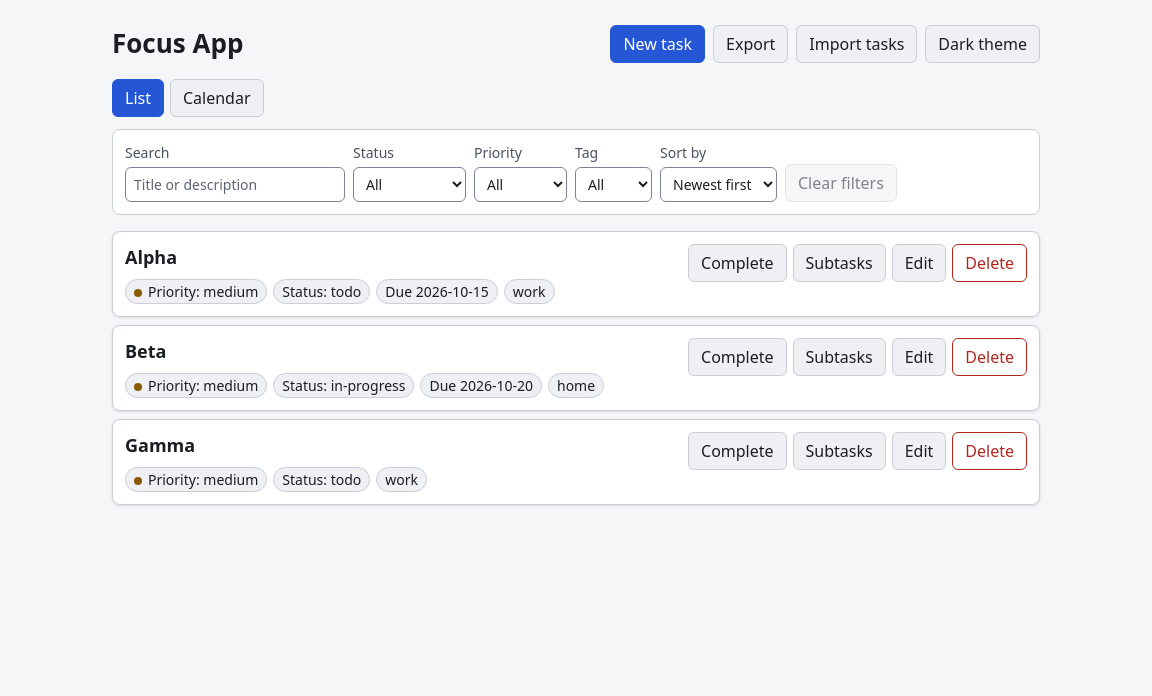
Test case: switching between the list and the calendar › keeps the month the user was looking at while switching away and back
What coordinates should you click on to do the following:
click the button "Calendar"
I would click on:
 (217, 98)
Its box is left=170, top=79, right=264, bottom=117.
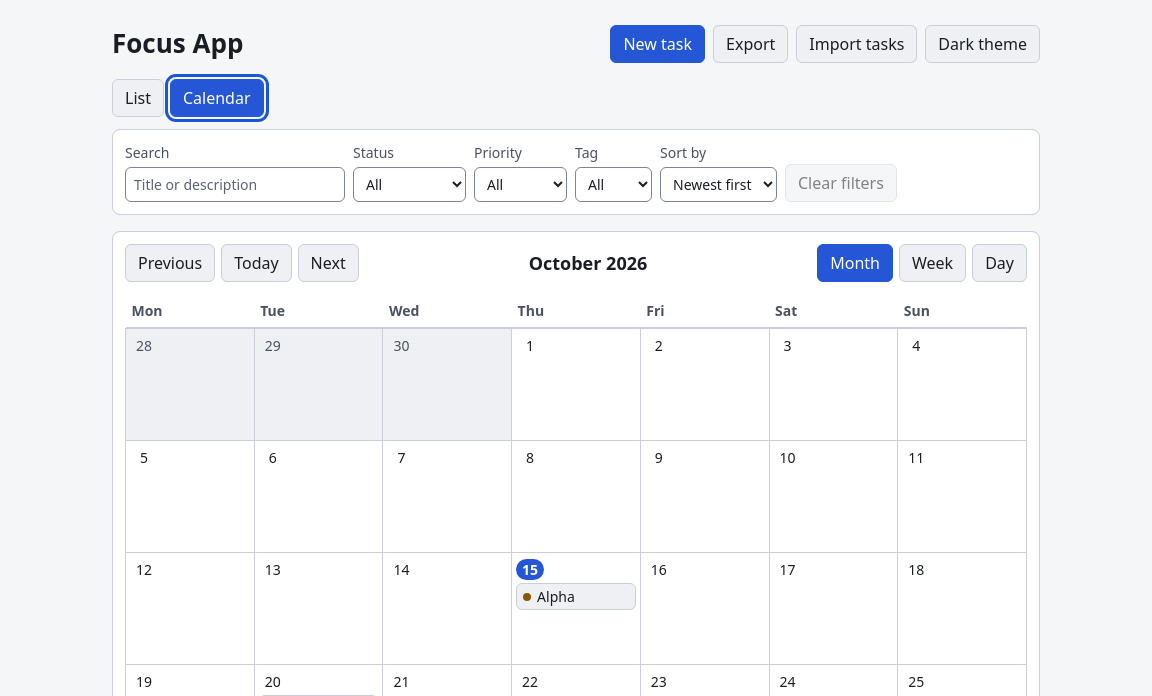
What coordinates should you click on to do the following:
click the button "Next"
I would click on:
 (328, 263)
Its box is left=298, top=244, right=359, bottom=282.
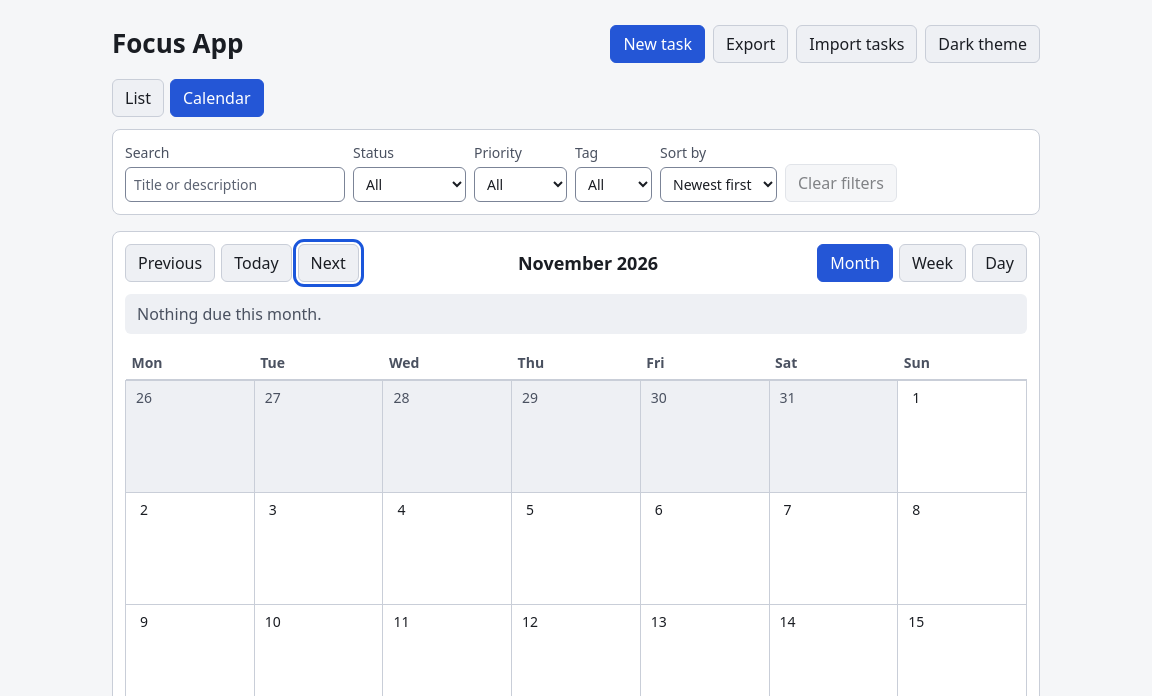
Check: the heading "November 2026" is shown, box left=518, top=250, right=658, bottom=274
What coordinates should you click on to do the following:
click the button "List"
I would click on:
 (138, 98)
Its box is left=112, top=79, right=164, bottom=117.
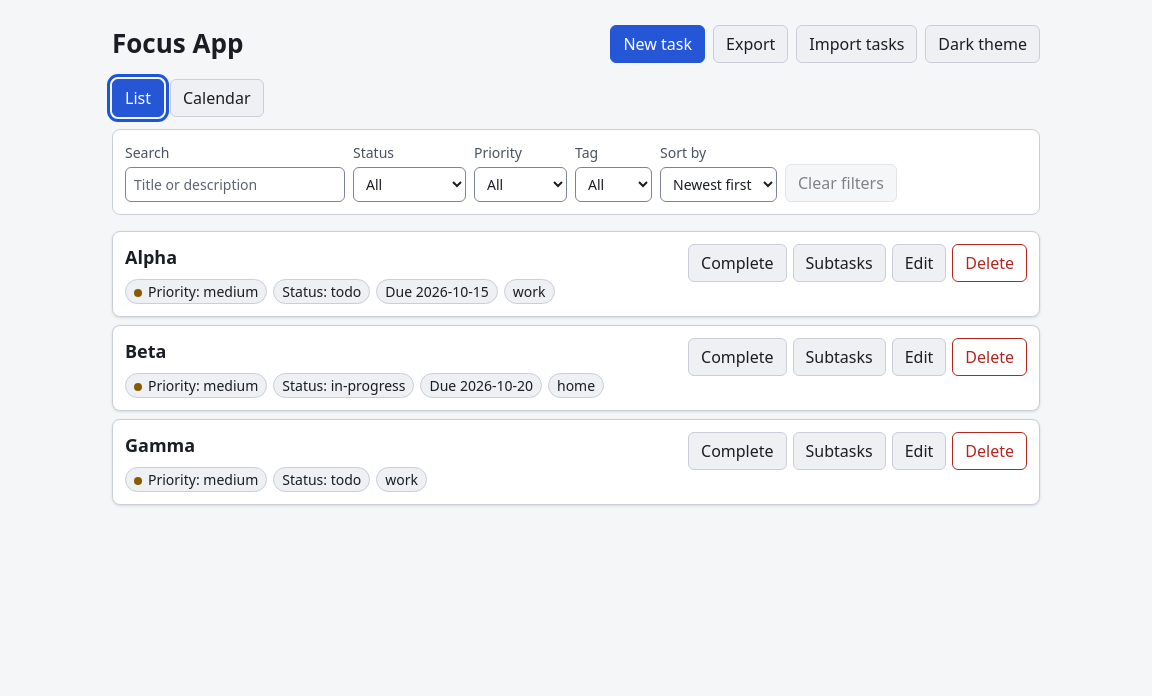
What coordinates should you click on to do the following:
click the button "Calendar"
I would click on:
 (217, 98)
Its box is left=170, top=79, right=264, bottom=117.
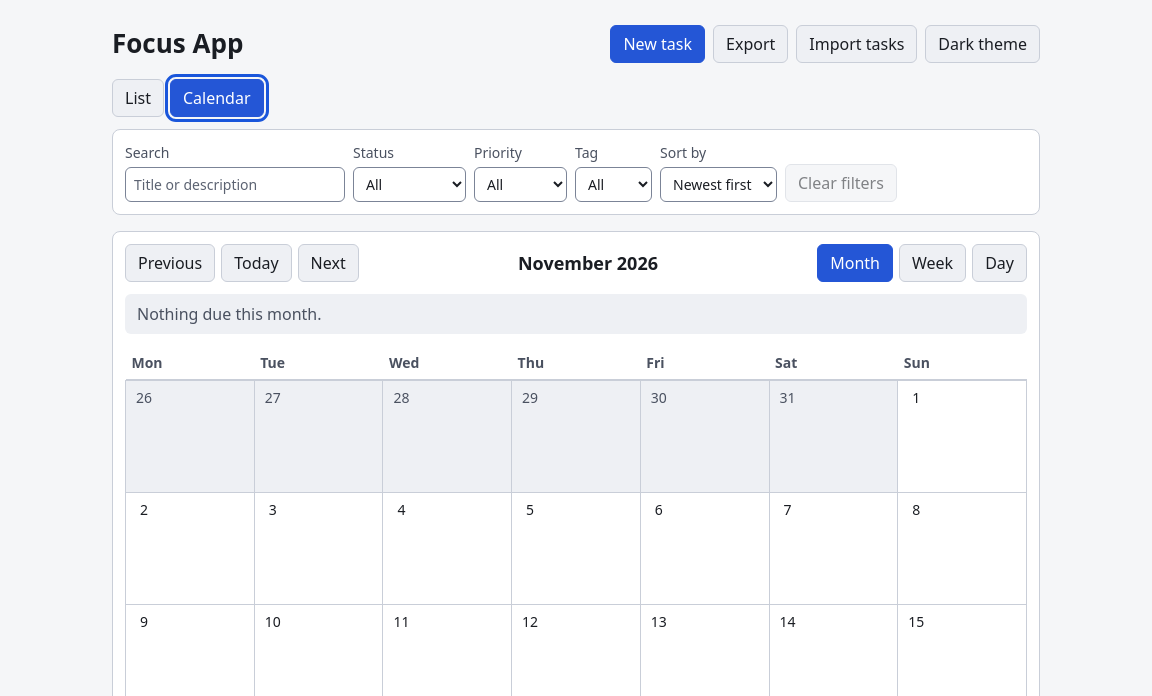
Check: the heading "November 2026" is shown, box left=518, top=250, right=658, bottom=274
